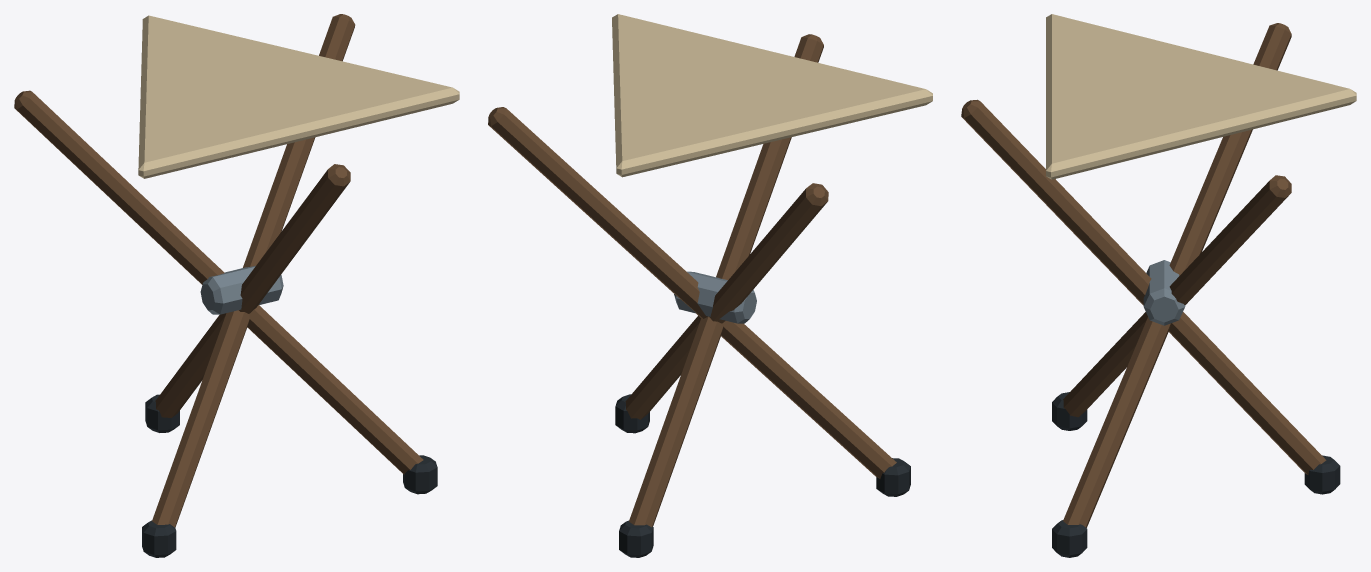
The model's file is b17_tripod_folding_camp_stool.glb.
3 renders of one model, left to right at view 1: azimuth 30°, elevation 25°; view 2: azimuth 150°, elevation 25°; view 3: azimuth 270°, elevation 25°, orthographic.
Visible parts, largest first — view 1: b17_tripod_folding_camp_stool; view 2: b17_tripod_folding_camp_stool; view 3: b17_tripod_folding_camp_stool.
Boxes of the visible parts, x1,y1,x2,y2 form: b17_tripod_folding_camp_stool: (14,14,459,557); b17_tripod_folding_camp_stool: (488,14,932,557); b17_tripod_folding_camp_stool: (961,14,1356,557).
Bounding box in the file's own units: 0.3938 × 0.448 × 0.4007.
